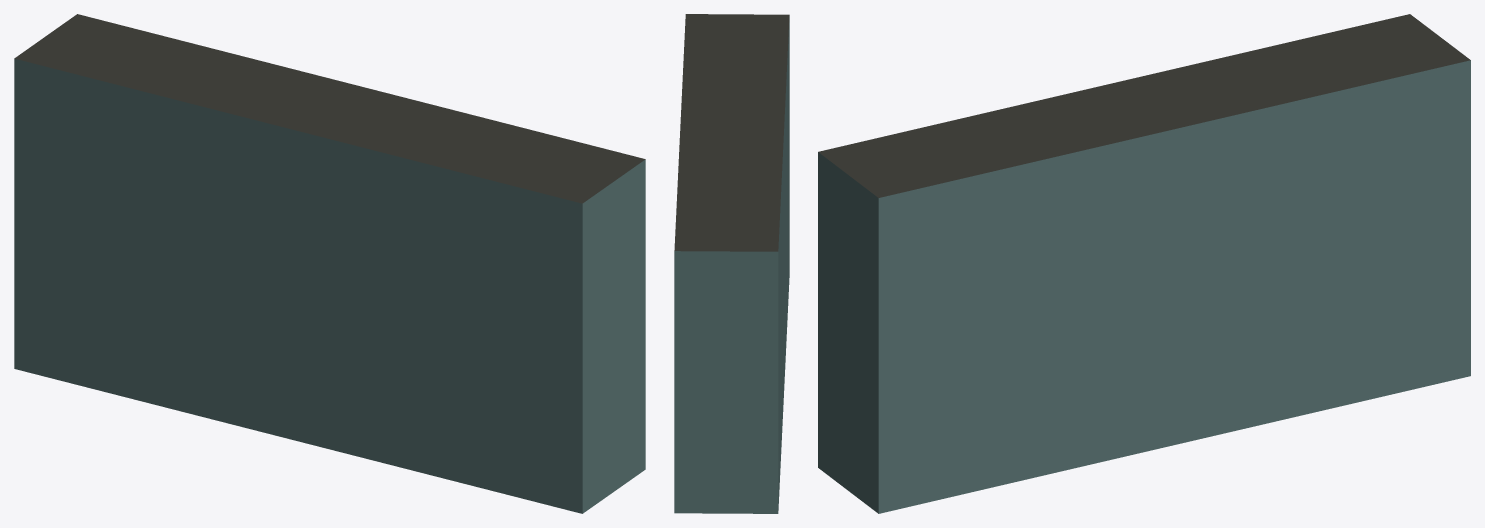
Rendered from nyc-1034265-0.glb.
The picture shows the model from 3 angles, left to right: view 1: azimuth 30°, elevation 25°; view 2: azimuth 150°, elevation 25°; view 3: azimuth 270°, elevation 25°; orthographic projection. The views are drawn at different scales.
Parts seen in each view (by area): view 1: nyc-1034265-0; view 2: nyc-1034265-0; view 3: nyc-1034265-0.
Part boxes in pixels (x1=…): nyc-1034265-0: x1=14, y1=14, x2=645, y2=513; nyc-1034265-0: x1=674, y1=14, x2=789, y2=513; nyc-1034265-0: x1=818, y1=14, x2=1470, y2=513.
Bounding box in the file's own units: 20.11 × 16.09 × 30.14.
